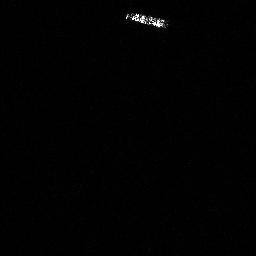ship: (122, 8, 170, 32)
